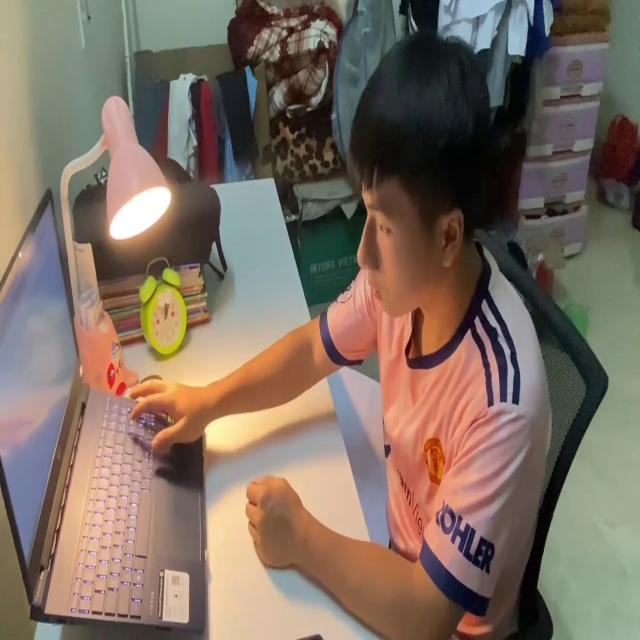book: (323, 353, 392, 554)
laptop: (0, 181, 209, 640)
student: (121, 33, 551, 640)
